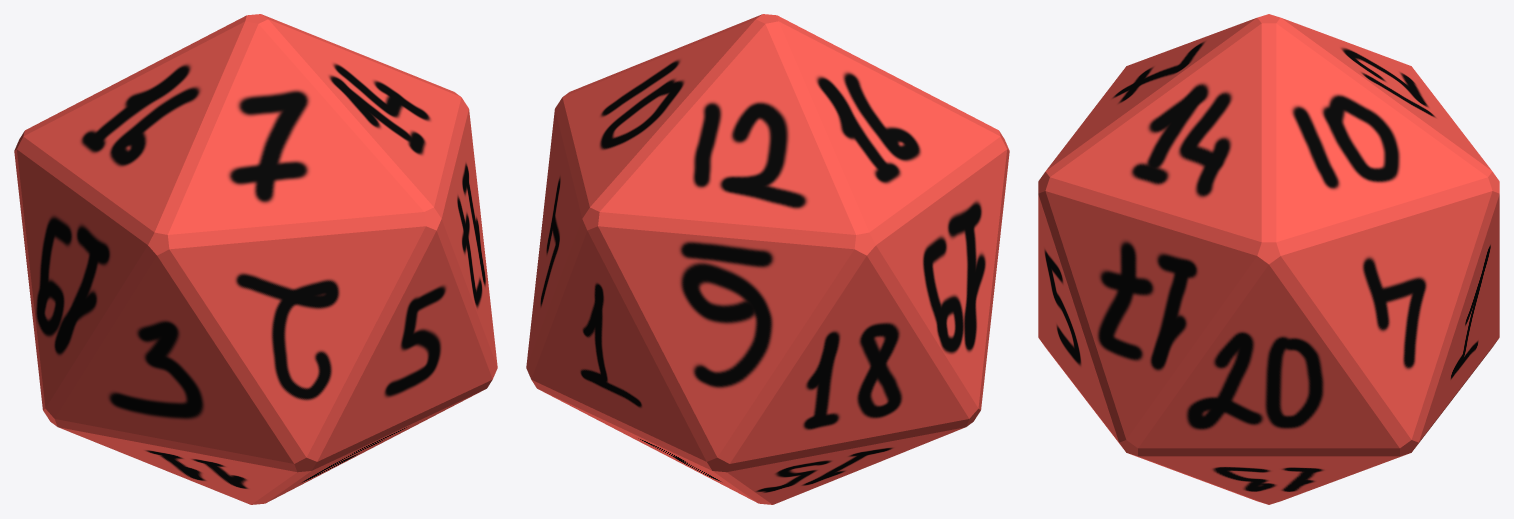
The model's file is d_twenty.fbx.
3 views of the same model, side by side, from view 1: azimuth 30°, elevation 25°; view 2: azimuth 150°, elevation 25°; view 3: azimuth 270°, elevation 25° (orthographic).
Parts seen in each view (by area): view 1: Icosphere; view 2: Icosphere; view 3: Icosphere.
Boxes of the visible parts, x1,y1,x2,y2 form: Icosphere: [14, 14, 497, 504]; Icosphere: [526, 14, 1009, 504]; Icosphere: [1038, 14, 1499, 504].
Size of the model in its own units: 1.77 by 1.93 by 1.68.
